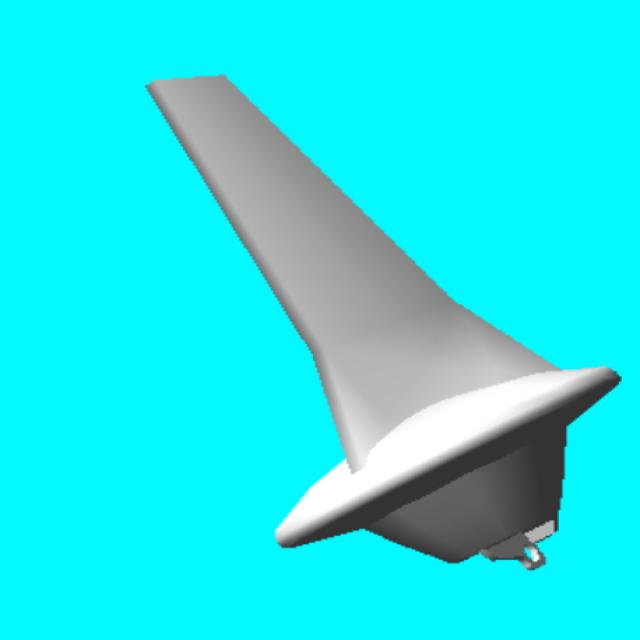WhiteBuoy: (148, 76, 617, 569)
